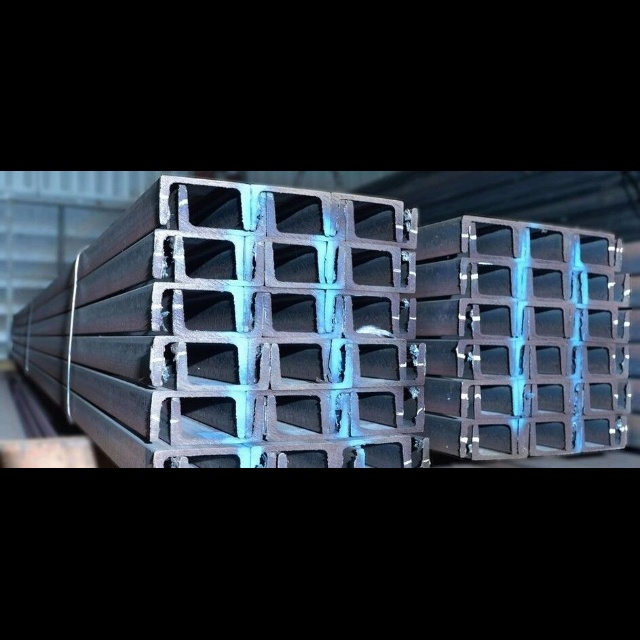Shveller: (162, 176, 249, 228), (153, 392, 243, 441), (153, 230, 241, 278), (155, 283, 243, 329), (181, 186, 264, 234), (156, 338, 244, 383), (172, 398, 260, 443), (177, 237, 261, 284), (180, 344, 267, 389), (176, 291, 260, 335), (254, 185, 329, 234), (248, 391, 327, 435), (271, 394, 346, 439), (247, 238, 324, 281), (251, 339, 327, 382), (269, 194, 343, 238), (246, 289, 322, 331), (268, 245, 343, 286), (354, 389, 422, 434), (333, 194, 402, 238), (275, 346, 349, 387), (329, 242, 399, 284), (267, 295, 340, 335), (335, 339, 405, 380), (332, 389, 401, 430), (351, 204, 416, 247), (348, 249, 414, 290), (328, 292, 397, 331), (348, 297, 416, 336), (355, 345, 424, 383), (464, 217, 518, 254), (462, 259, 515, 293), (461, 301, 515, 334), (460, 342, 514, 375), (464, 421, 516, 455), (464, 382, 517, 415), (475, 426, 527, 459), (521, 418, 570, 452), (521, 223, 568, 258), (477, 307, 527, 338), (477, 347, 528, 377), (570, 305, 617, 337), (520, 304, 567, 336), (477, 387, 528, 416), (521, 264, 567, 296), (518, 343, 565, 374), (531, 309, 579, 339), (569, 343, 615, 374), (533, 425, 580, 455), (572, 230, 613, 264), (520, 382, 568, 411), (578, 237, 621, 269), (585, 311, 629, 342), (571, 381, 616, 411), (535, 387, 581, 416), (534, 349, 581, 377), (585, 277, 629, 306), (585, 384, 629, 413), (584, 418, 625, 449), (585, 348, 628, 376), (574, 417, 614, 446), (571, 270, 614, 296)
